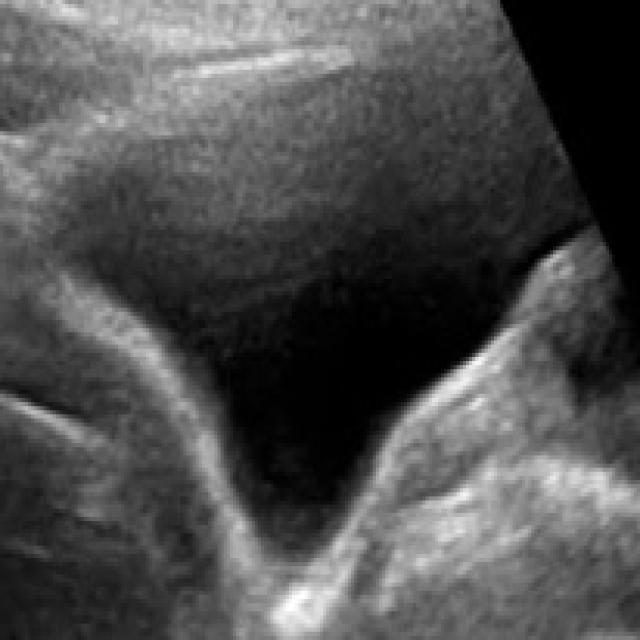bladder: (20, 10, 603, 614)
